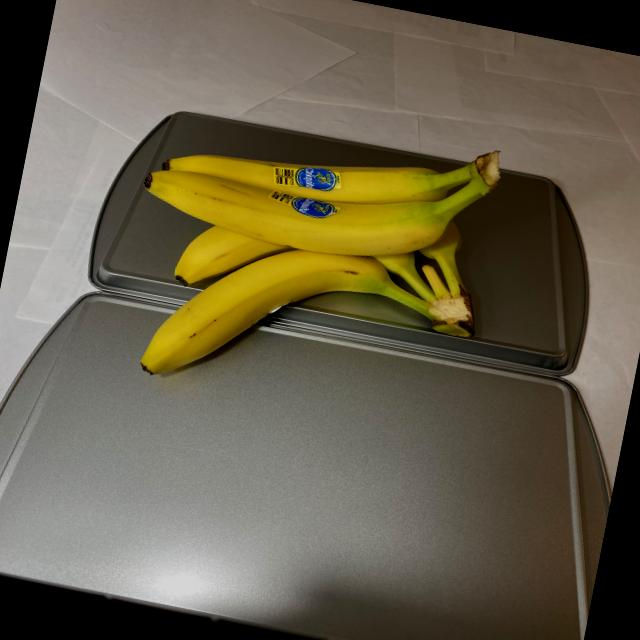banana: (105, 83, 518, 442)
